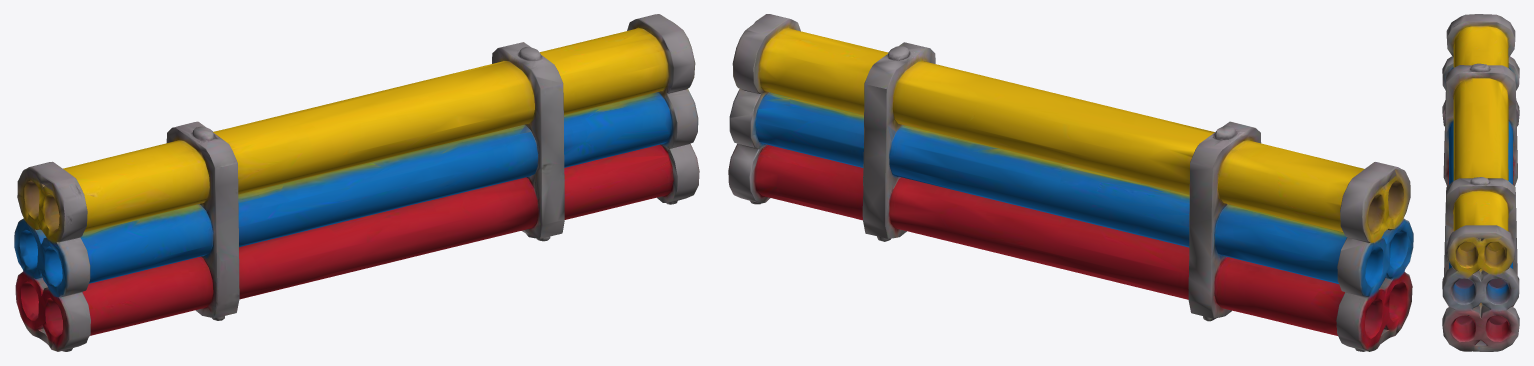
The model's file is decor_pipes_colored_h_idle.glb.
3 renders of one model, left to right at view 1: azimuth 30°, elevation 25°; view 2: azimuth 150°, elevation 25°; view 3: azimuth 270°, elevation 25°, orthographic. The views are drawn at different scales.
Visible parts, largest first — view 1: tripo_node_a56db471-30ba-48bc-99f5-5790ddb888ff; view 2: tripo_node_a56db471-30ba-48bc-99f5-5790ddb888ff; view 3: tripo_node_a56db471-30ba-48bc-99f5-5790ddb888ff.
Boxes of the visible parts, x1,y1,x2,y2 form: tripo_node_a56db471-30ba-48bc-99f5-5790ddb888ff: (14, 14, 699, 351); tripo_node_a56db471-30ba-48bc-99f5-5790ddb888ff: (728, 14, 1413, 351); tripo_node_a56db471-30ba-48bc-99f5-5790ddb888ff: (1442, 14, 1519, 351).
Bounding box in the file's own units: 1.5 × 0.4022 × 0.223.
1 material, 1 textured.
